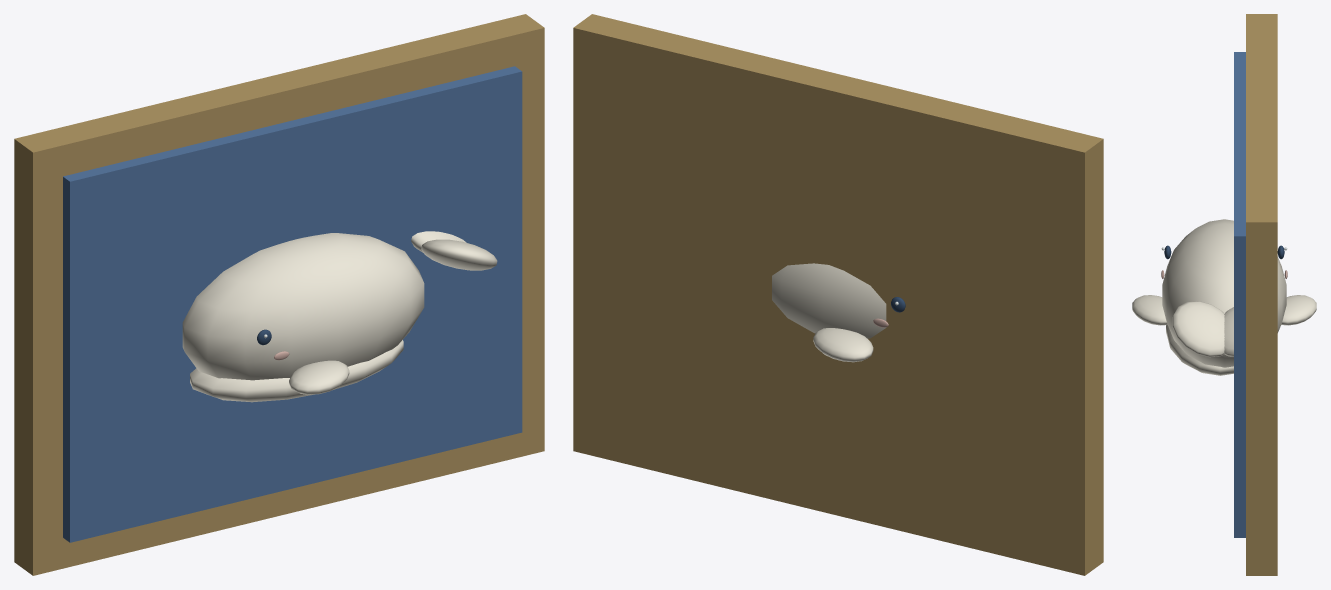
The model's file is painting_whale.glb.
The picture shows the model from 3 angles, left to right: view 1: azimuth 30°, elevation 25°; view 2: azimuth 150°, elevation 25°; view 3: azimuth 270°, elevation 25°; orthographic projection. The views are drawn at different scales.
Visible parts, largest first — view 1: _MeshInstance3D_1153, _MeshInstance3D_1152, _MeshInstance3D_1154, _MeshInstance3D_1155, _MeshInstance3D_1159, _MeshInstance3D_1158; view 2: _MeshInstance3D_1152, _MeshInstance3D_1154, _MeshInstance3D_1156; view 3: _MeshInstance3D_1152, _MeshInstance3D_1154, _MeshInstance3D_1153, _MeshInstance3D_1159, _MeshInstance3D_1156, _MeshInstance3D_1158, _MeshInstance3D_1155, _MeshInstance3D_1157.
Part boxes in pixels (left/top/right/bottom): _MeshInstance3D_1153: left=63, top=66, right=522, bottom=542; _MeshInstance3D_1152: left=14, top=14, right=544, bottom=575; _MeshInstance3D_1154: left=182, top=233, right=424, bottom=380; _MeshInstance3D_1155: left=190, top=340, right=403, bottom=402; _MeshInstance3D_1159: left=421, top=239, right=497, bottom=270; _MeshInstance3D_1158: left=289, top=360, right=349, bottom=394; _MeshInstance3D_1152: left=573, top=14, right=1103, bottom=575; _MeshInstance3D_1154: left=772, top=263, right=886, bottom=338; _MeshInstance3D_1156: left=813, top=328, right=873, bottom=362; _MeshInstance3D_1152: left=1246, top=14, right=1277, bottom=575; _MeshInstance3D_1154: left=1162, top=219, right=1286, bottom=367; _MeshInstance3D_1153: left=1234, top=52, right=1245, bottom=537; _MeshInstance3D_1159: left=1172, top=301, right=1224, bottom=357; _MeshInstance3D_1156: left=1281, top=295, right=1316, bottom=325; _MeshInstance3D_1158: left=1132, top=295, right=1167, bottom=325; _MeshInstance3D_1155: left=1166, top=325, right=1233, bottom=375; _MeshInstance3D_1157: left=1224, top=307, right=1233, bottom=356.
Bounding box in the file's own units: 0.86 × 0.68 × 0.3216.
